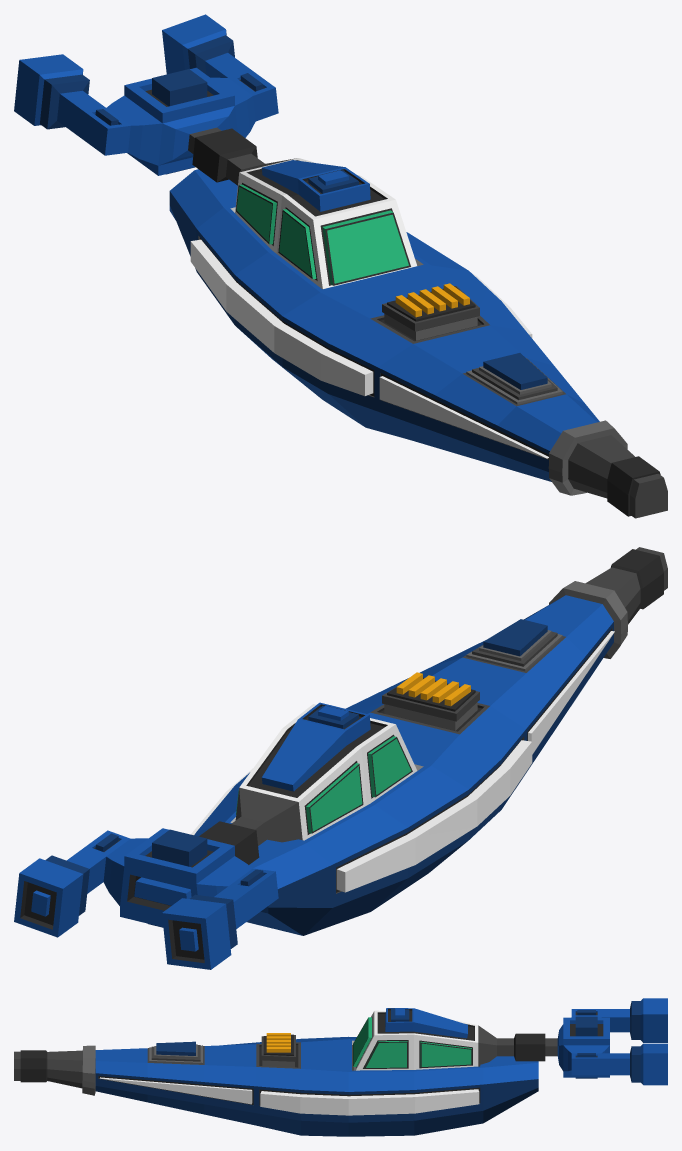
Rendered from Boat_02.glb.
3 renders of one model, top to bottom at view 1: azimuth 30°, elevation 25°; view 2: azimuth 150°, elevation 25°; view 3: azimuth 270°, elevation 25°, orthographic. The views are drawn at different scales.
Visible parts, largest first — view 1: Boat 16; view 2: Boat 16; view 3: Boat 16.
Part boxes in pixels (box(x1,y1,x2,y2)): Boat 16: box(14, 14, 667, 518); Boat 16: box(14, 547, 667, 969); Boat 16: box(14, 998, 667, 1136).
Size of the model in its own units: 7.61 by 6.45 by 35.04.
Materials: 1 (1 with a texture image).
